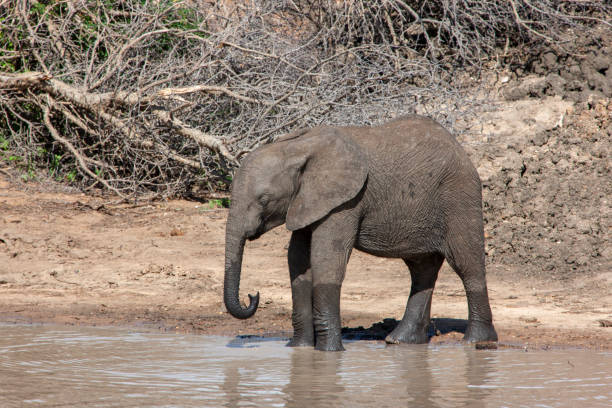africanelephant: (219, 137, 369, 259)
